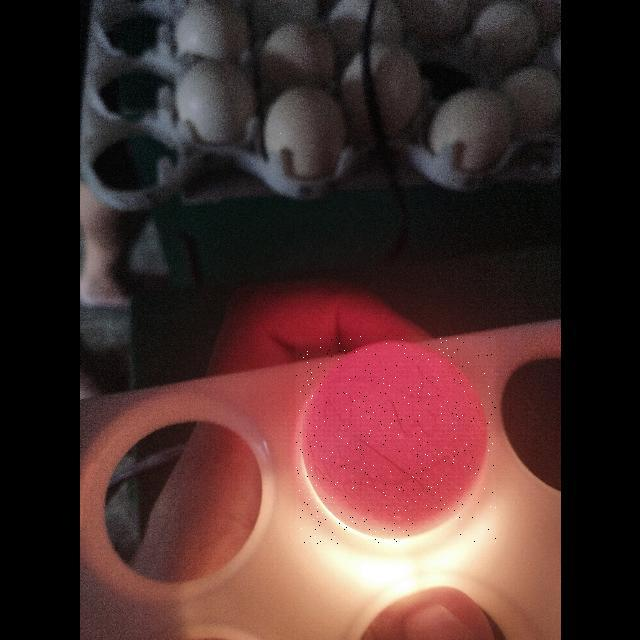Infertile: (296, 336, 496, 544)
